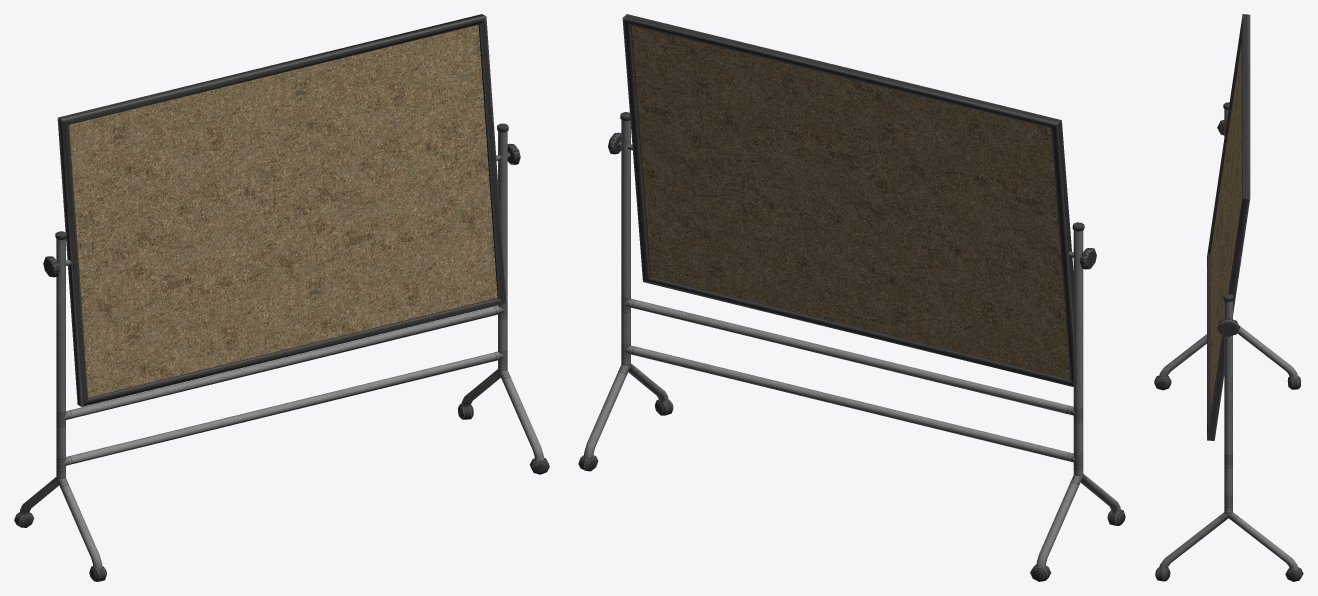
File: noticeboard_freestanding.dae
3 renders of one model, left to right at view 1: azimuth 30°, elevation 25°; view 2: azimuth 150°, elevation 25°; view 3: azimuth 270°, elevation 25°, orthographic. The views are drawn at different scales.
Visible parts, largest first — view 1: cork__2_, low; view 2: cork__2_, low; view 3: low, cork__2_.
Part boxes in pixels (box(x1,y1,x2,y2)): cork__2_: box(69, 25, 497, 397); low: box(14, 14, 549, 581); cork__2_: box(631, 26, 1070, 378); low: box(578, 14, 1125, 581); low: box(1154, 14, 1303, 581); cork__2_: box(1210, 43, 1241, 411).
Size of the model in its own units: 2.97 by 2.58 by 0.9236.
